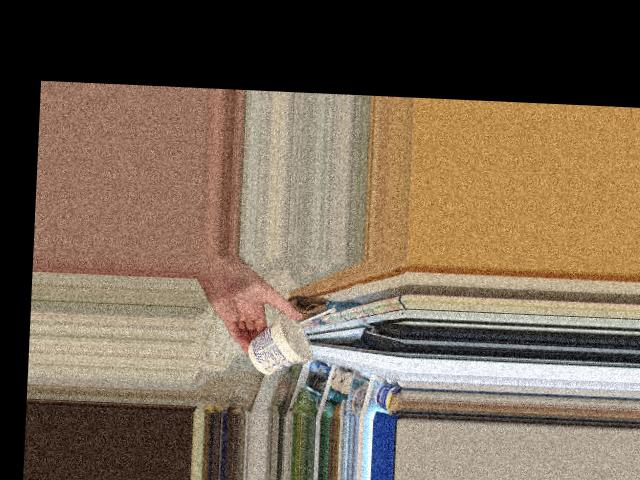cotage: (256, 314, 316, 374)
